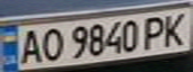0: (118, 17, 142, 52)
4: (103, 19, 127, 55)
8: (87, 20, 109, 56)
9: (66, 22, 90, 60)
A: (15, 28, 45, 65)
K: (157, 10, 193, 47)
O: (36, 26, 66, 63)
P: (139, 14, 172, 50)
